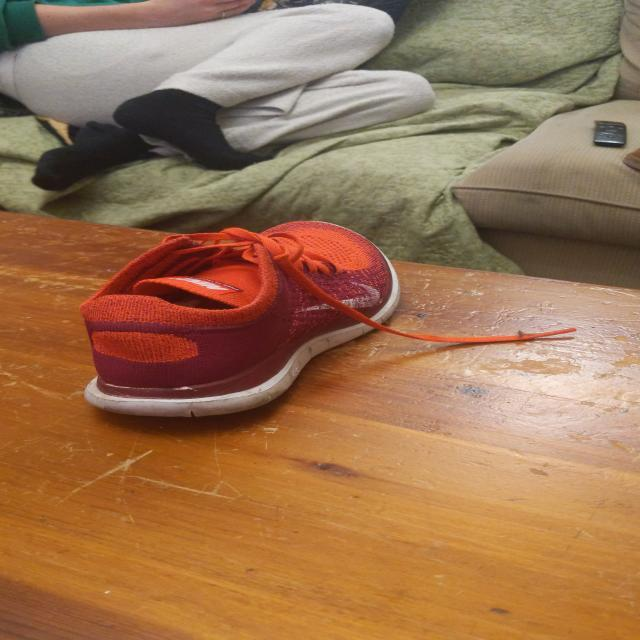shoes: (76, 218, 403, 420)
